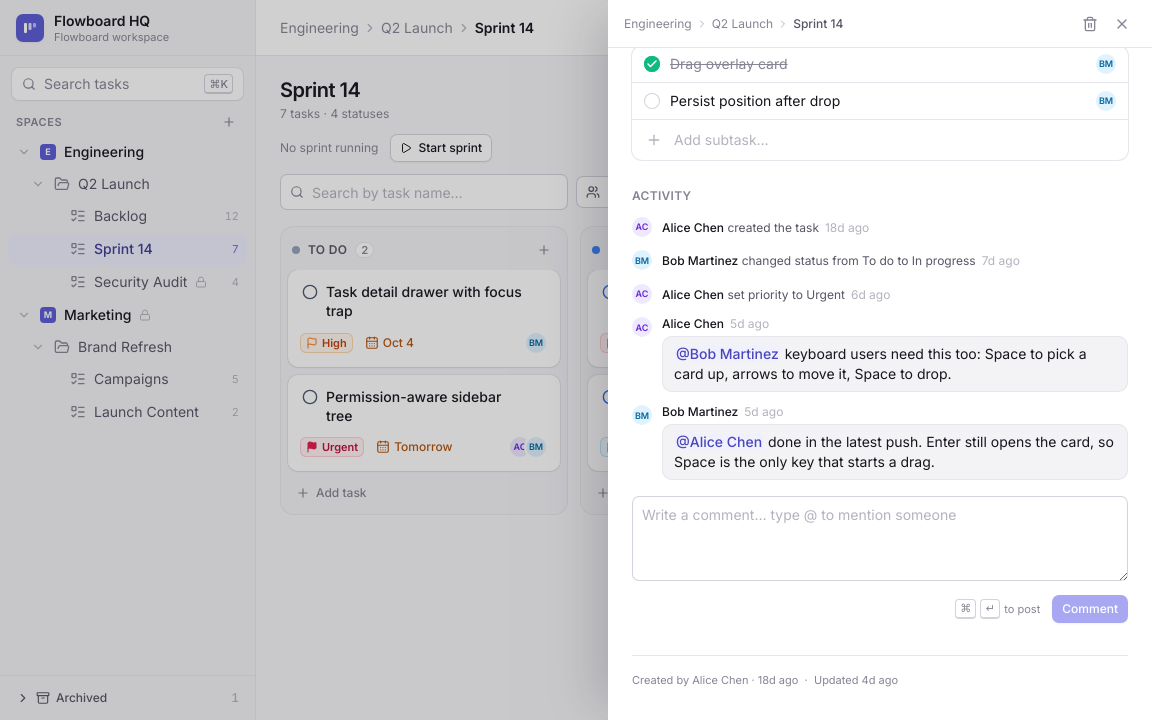
Test: App — task activity and comments › shows the task history and posts a comment
(page scrolled)
Expected: the text "Bob Martinez changed status from To do to In progress7d ago" is shown, [662,249,1020,271]
Expected: the text "Enter still opens the card" is shown, [674,433,1118,470]
Type "Ship it" into the text box named "Add a comment" at (880, 538), box [632,496,1128,581]
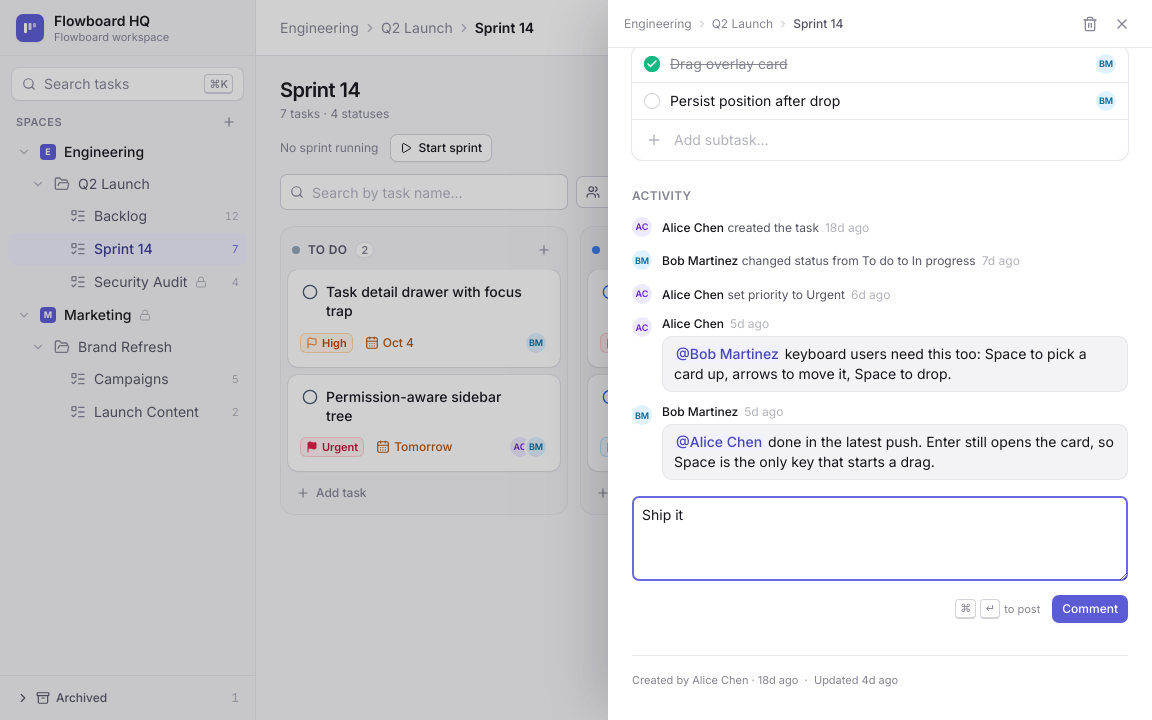
Click the button "Comment" at (1090, 608), box [1052,594,1128,622]
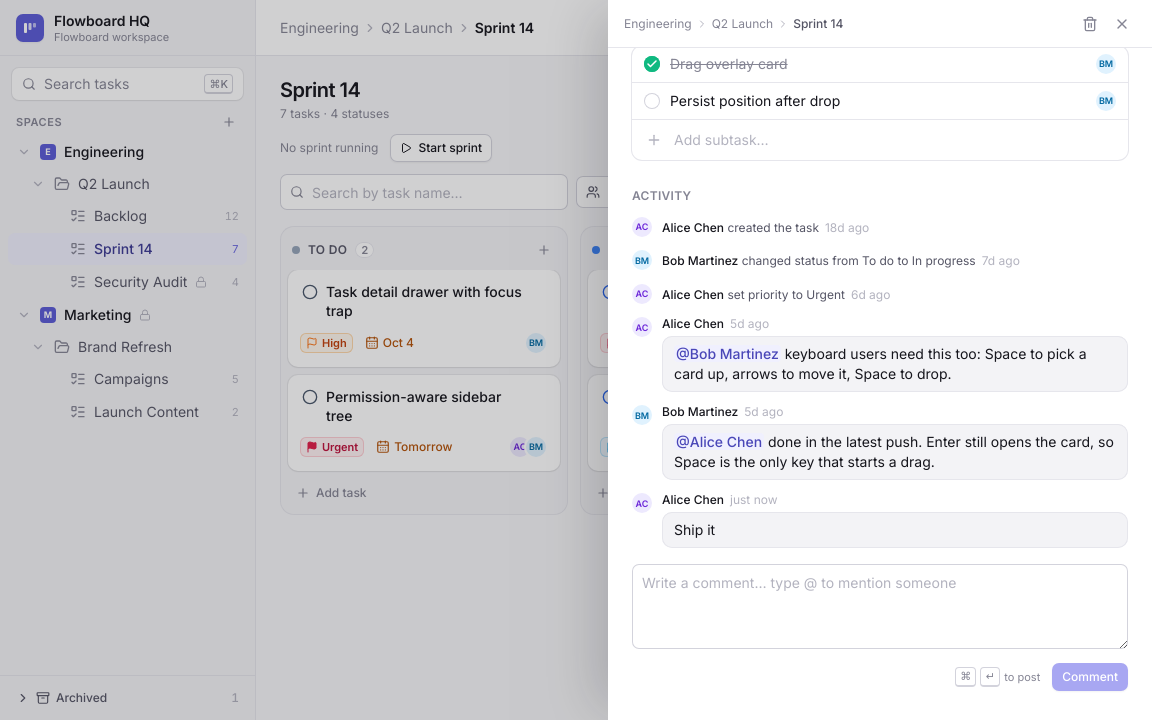
Expected: the text "Ship it" is shown, [662,512,1128,548]
Expected: the text box named "Add a comment" is empty, [632,564,1128,649]
